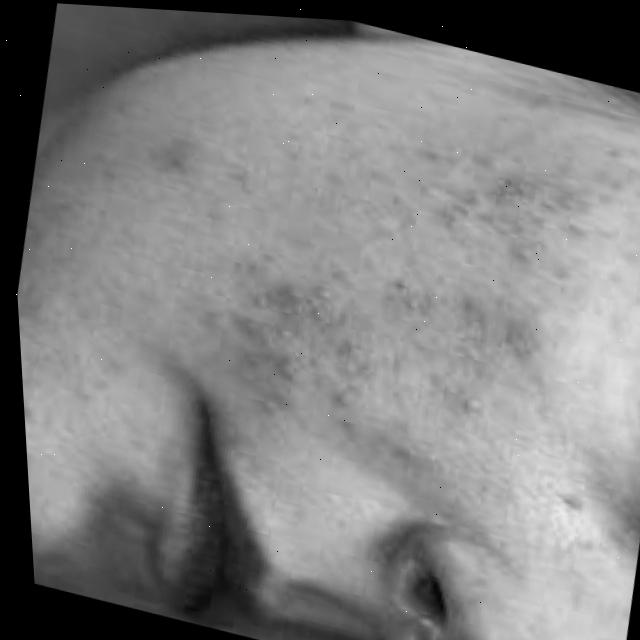Rosacea: (102, 47, 638, 482)
